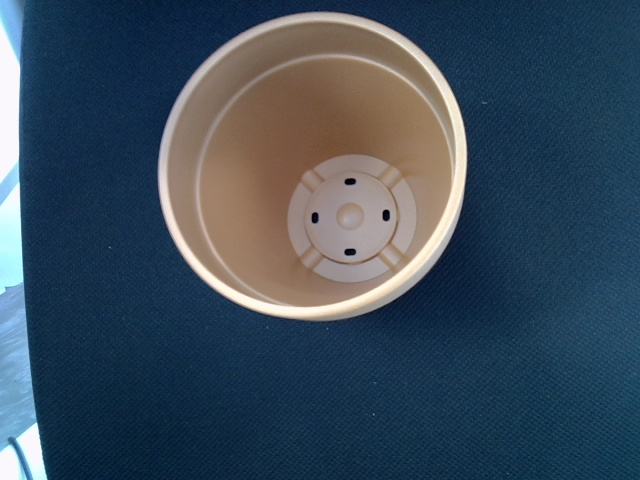화분: (156, 10, 467, 321)
